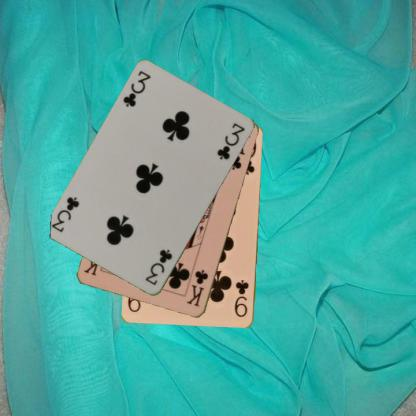3c: (120, 68, 153, 109), (143, 247, 174, 287)
9c: (232, 277, 250, 319)
Kc: (184, 267, 209, 308)
